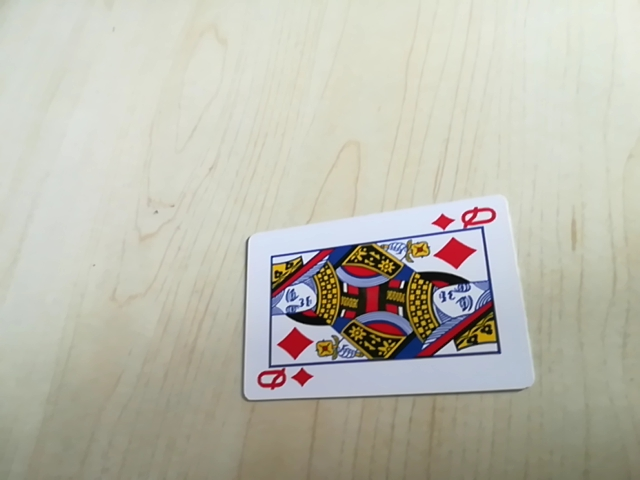fk q: (429, 202, 499, 234), (252, 362, 314, 397)
